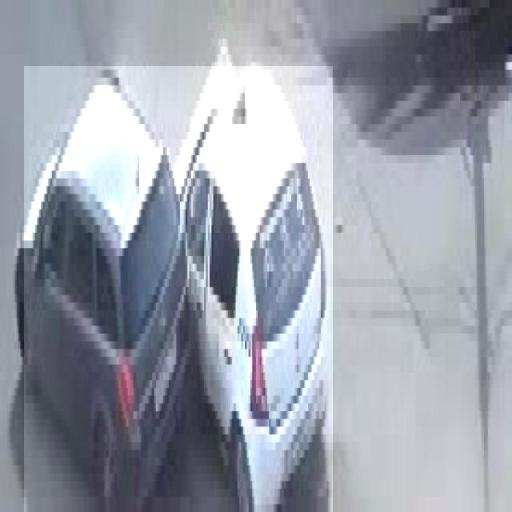小汽车撞小汽车: (24, 66, 333, 512)
